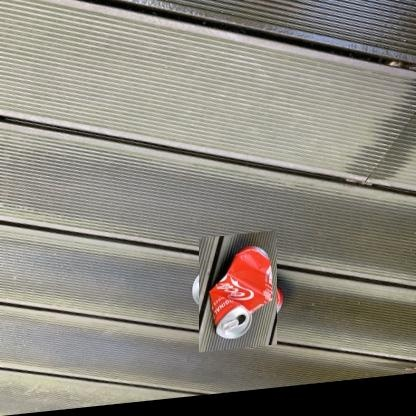trash: (209, 246, 271, 338)
